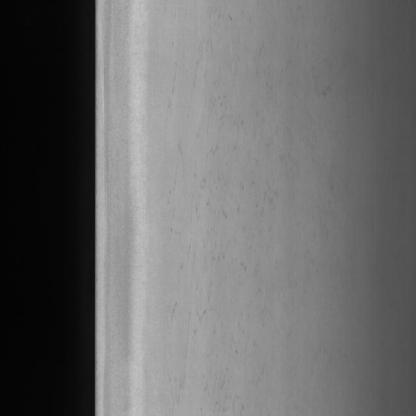silk_spot: (155, 127, 235, 384)
